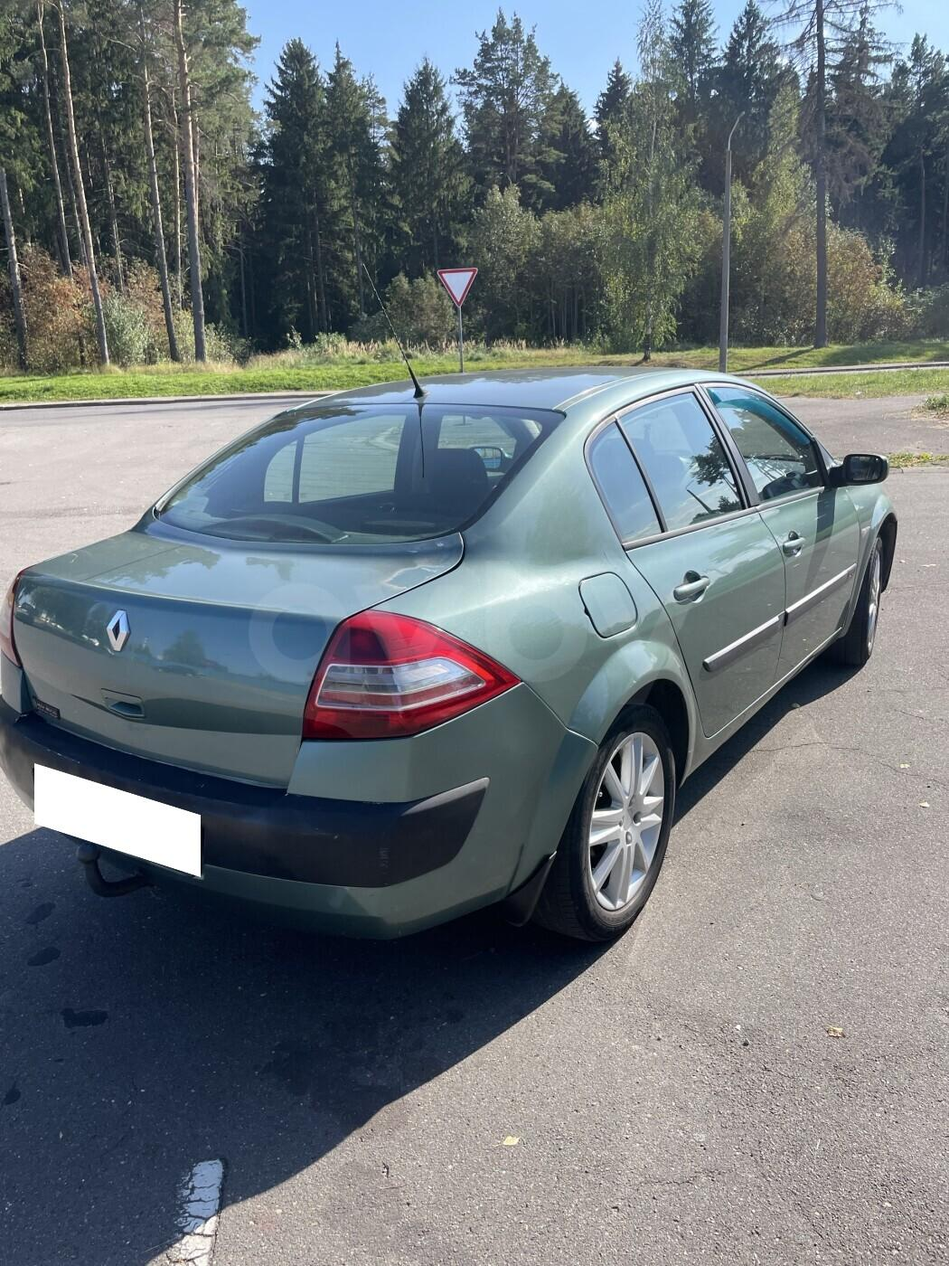Megane_2005-2009: (0, 360, 922, 1002)
